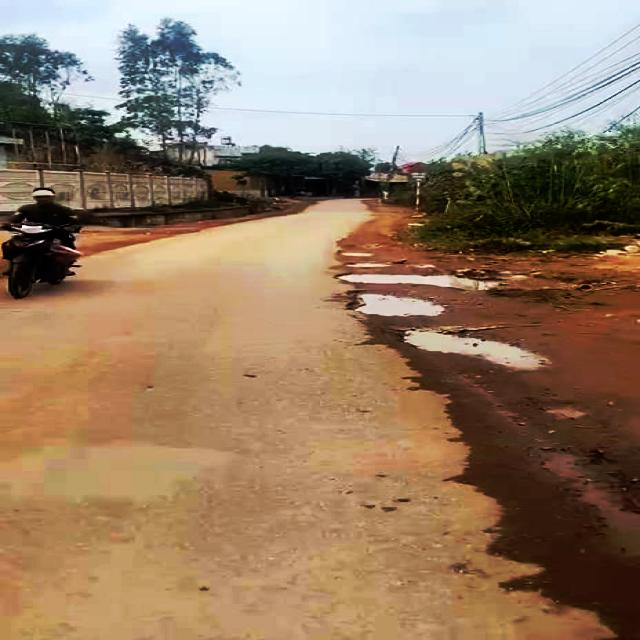pothole: (392, 324, 557, 376), (336, 266, 494, 296), (345, 284, 451, 322)
